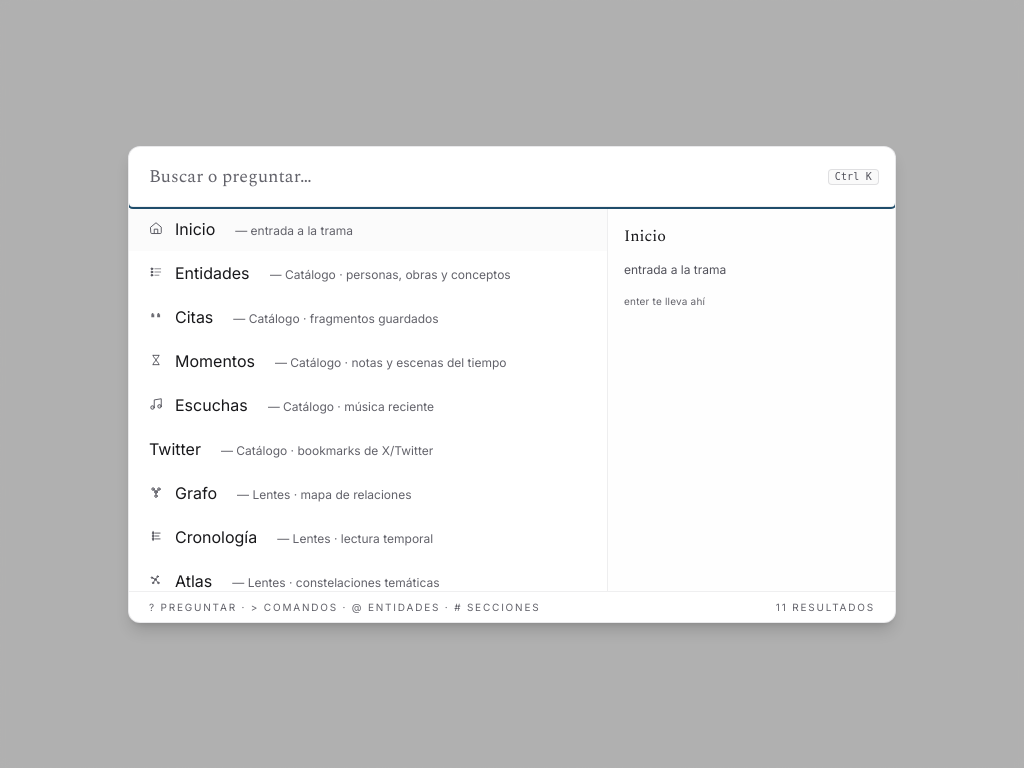
it: <CommandPalette /> › filters by query — typing "entid" shrinks results
In the field with placeholder "Buscar o preguntar…": (512, 176) [129, 146, 895, 206], type "entid"
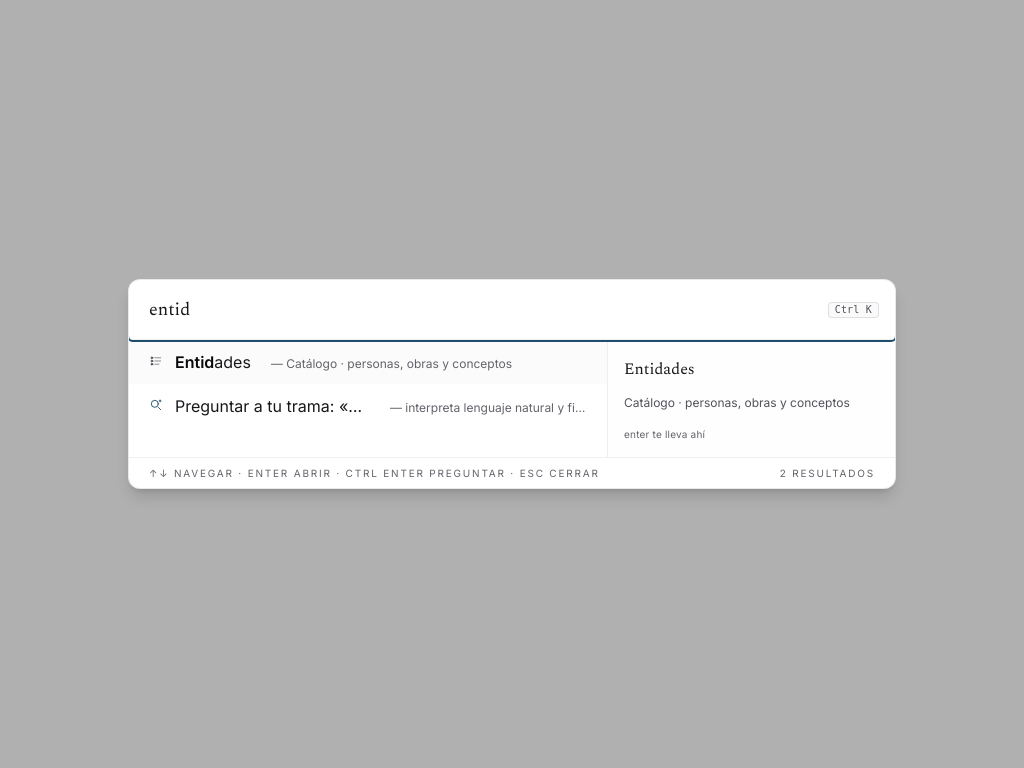
Expected: the list shows "Entidades", [129, 340, 607, 457]
Expected: the button "Inicio" no longer shows "Inicio"
